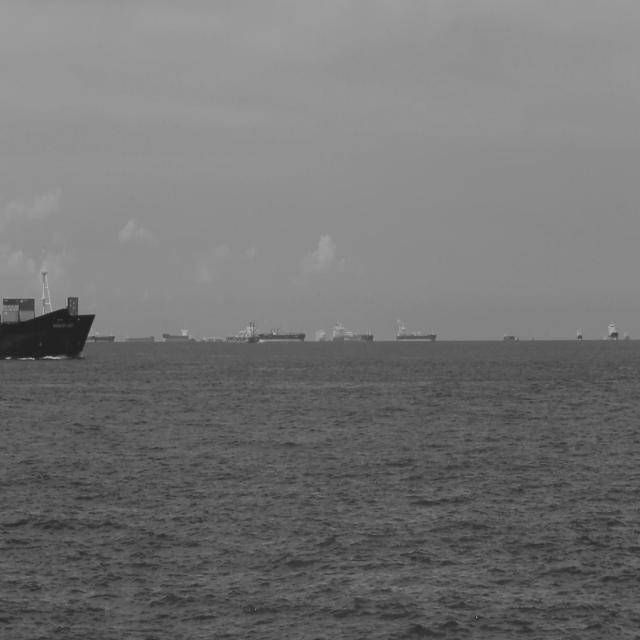ship: (0, 258, 95, 362), (394, 316, 438, 342), (331, 318, 378, 342), (225, 321, 262, 346), (260, 327, 308, 344), (163, 325, 196, 343), (84, 326, 116, 343), (124, 332, 158, 344)
